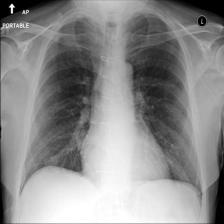normal: (17, 14, 204, 201)
